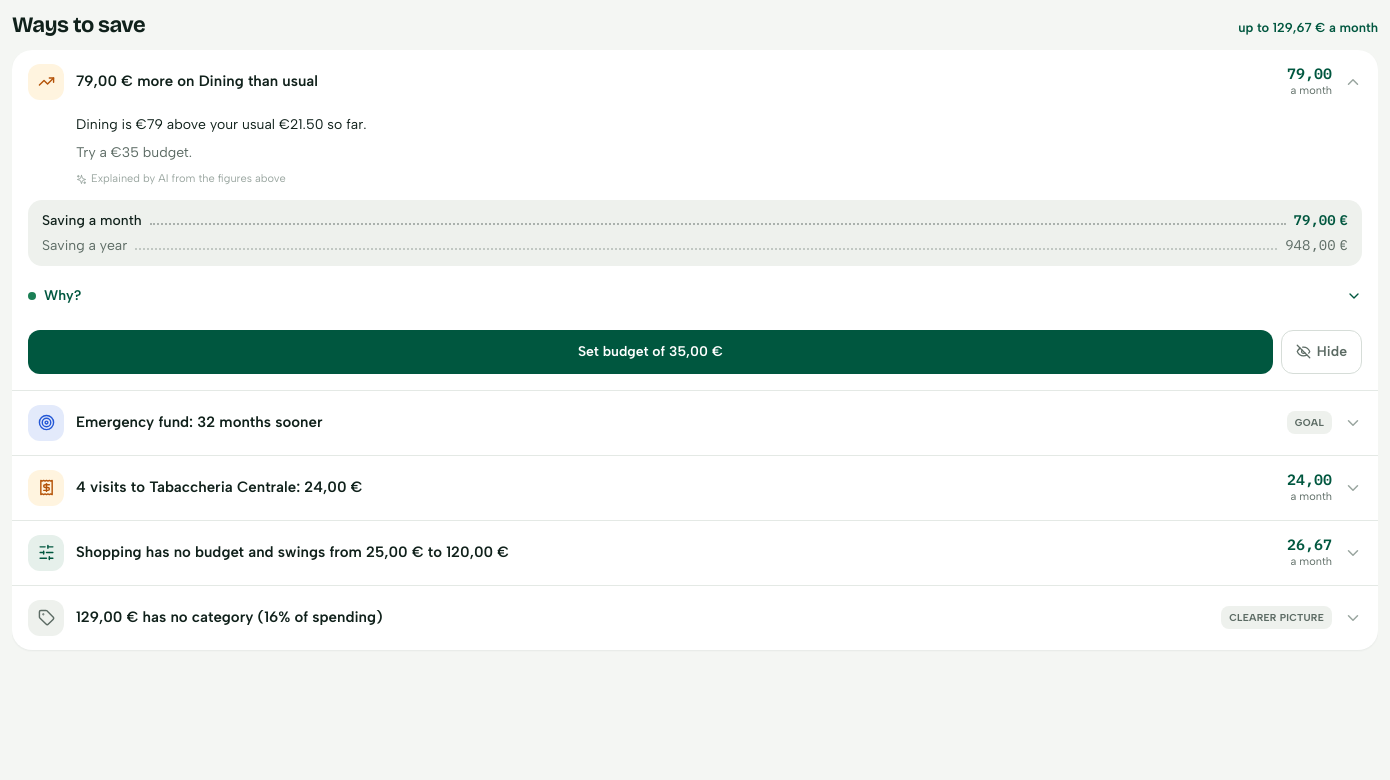
Test: Ways to save › uses the AI sentence only while its figures match the card; otherwise the app wording
The image size is (1390, 780).
Click the 3rd button with test id "opportunity-toggle" at (46, 488), box 12,456 -> 1378,520
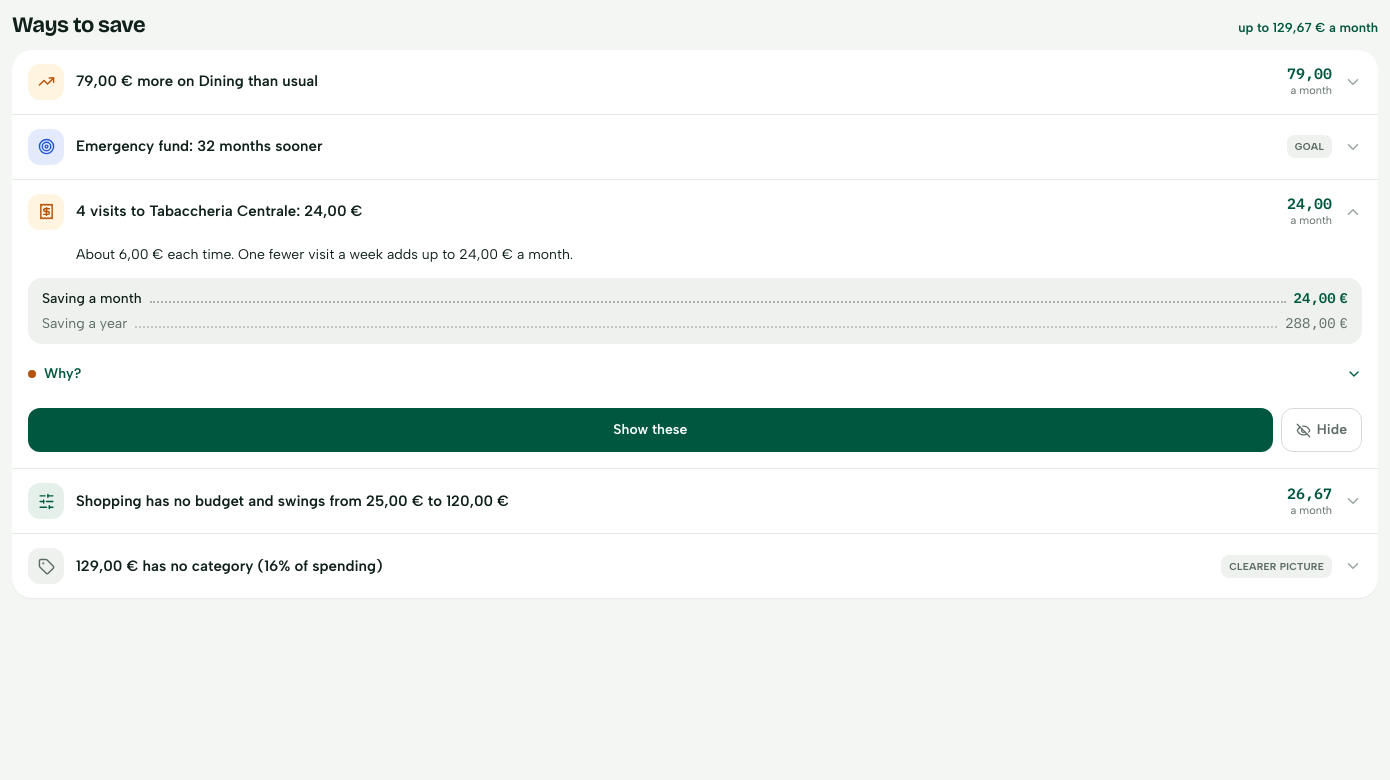
Click the button with test id "opportunity-toggle" that starts with "79,00 € more on Dining than usual" at (46, 82), box 12,50 -> 1378,114
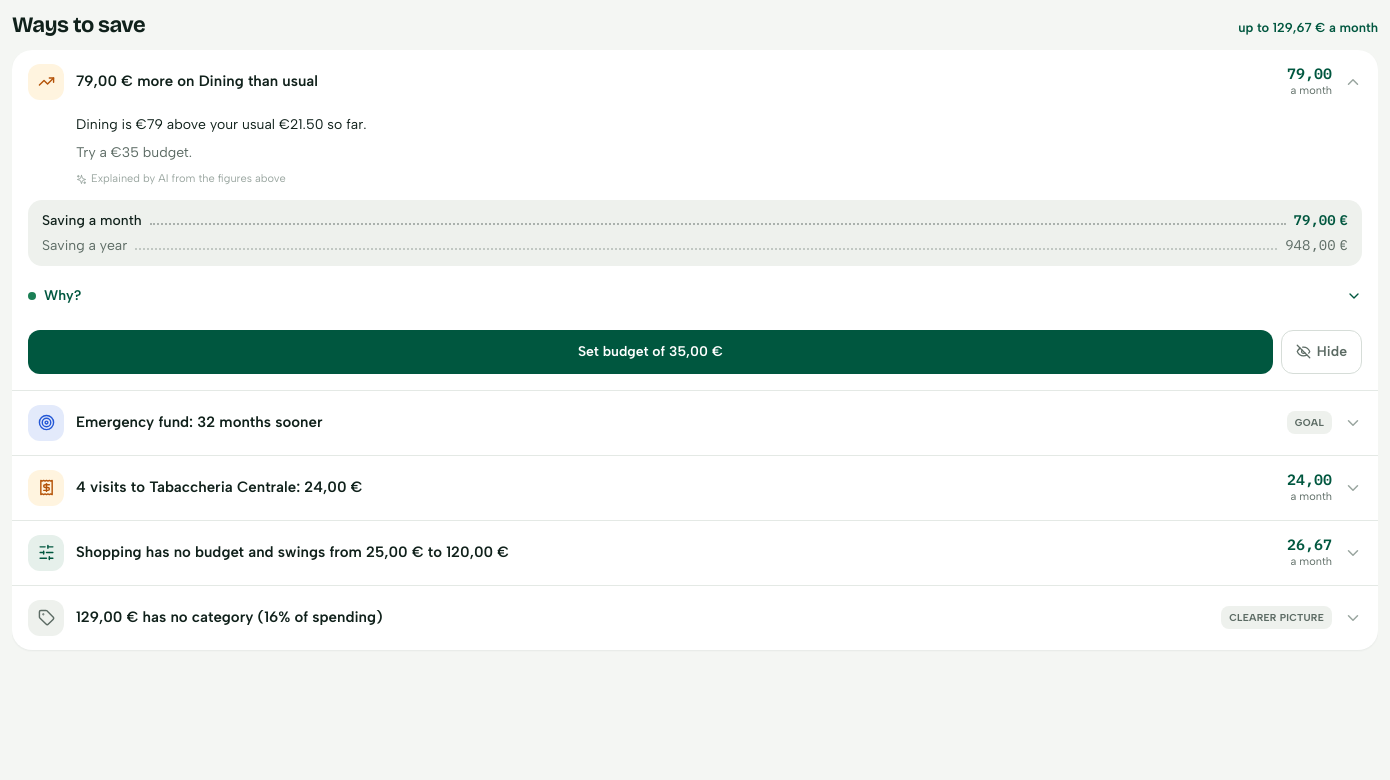
Now the text with test id "opportunity-explanation" reads "Dining is €79 above your usual €21.50 so far.", box 76,116 -> 366,132
Now the element with test id "opportunity-ai" is shown, box 76,172 -> 286,185
Click the 3rd button with test id "opportunity-toggle" at (46, 488), box 12,456 -> 1378,520
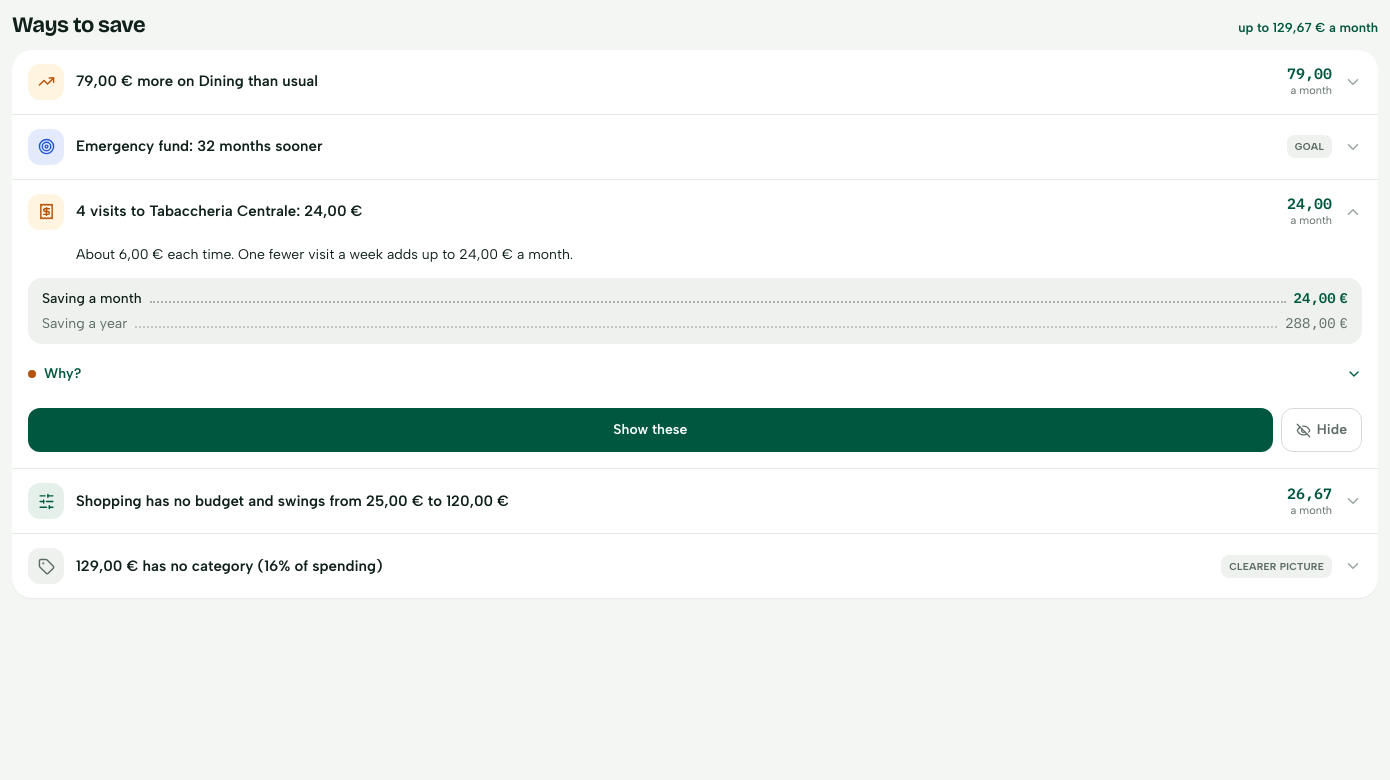
Now the text with test id "opportunity-explanation" reads "About 6,00 € each time. One fewer visit a week adds up to 24,00 € a month.", box 76,246 -> 573,262
Now the element with test id "opportunity-ai" is gone
